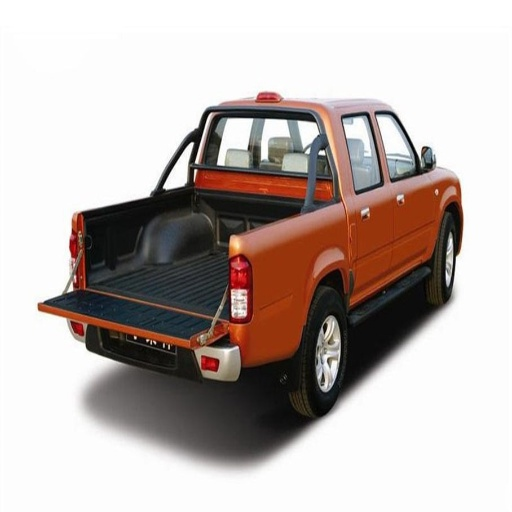_background_: (198, 285, 310, 370), (108, 217, 183, 282)
back_bumper: (209, 111, 324, 168)
back_glass: (397, 163, 436, 250)
back_left_door: (39, 293, 104, 353)
back_left_light: (342, 114, 393, 286)
back_right_door: (230, 248, 253, 322)
front_left_light: (387, 121, 420, 270)
tailgate: (181, 171, 338, 344), (95, 269, 205, 343), (9, 364, 91, 425), (89, 220, 130, 256), (434, 166, 466, 207)
trunk: (287, 286, 349, 415), (429, 214, 457, 302)
